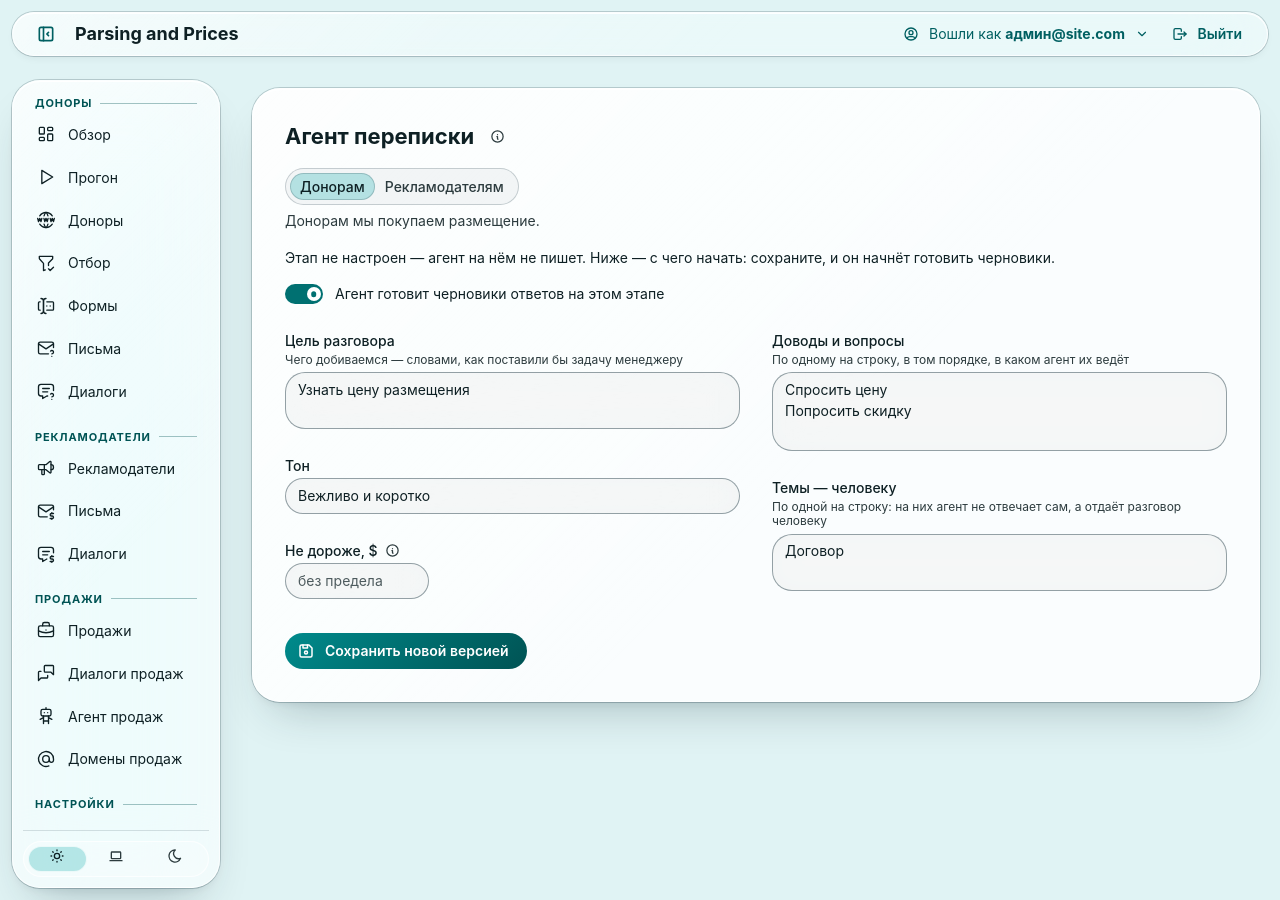
Test: агент переписки › буква в цене — отказ под полем, а не склеенные цифры
Expected: the text box labelled "Цель разговора" is shown, [285, 372, 740, 429]
# «ю» — клавиша точки на русской раскладке: числовое поле выбрасывало её, и «12ю5» было 125.
Step 1. Type "12ю5" into the field named "Не дороже, $" → (357, 581), box [285, 563, 429, 599]
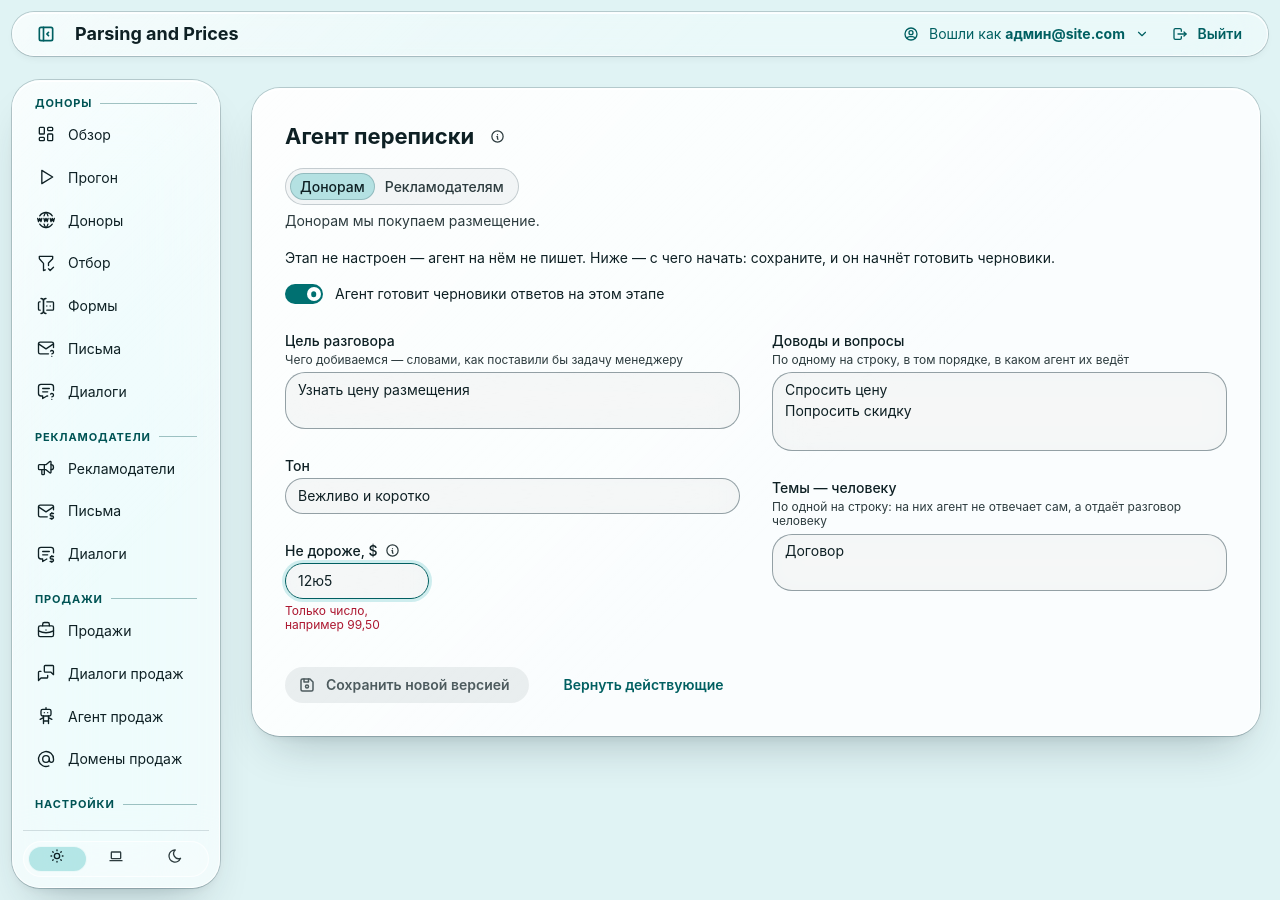
Expected: the text "Только число, например 99,50" is shown, [285, 603, 380, 632]
Expected: the button "Сохранить новой версией" is disabled, [285, 667, 529, 703]
